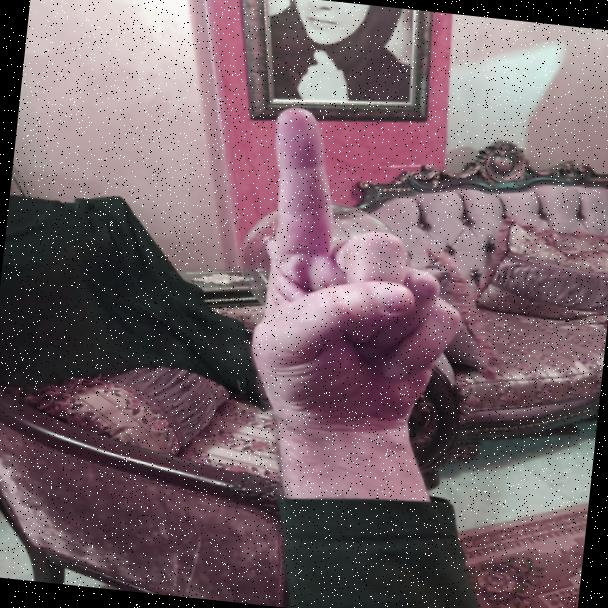one: (226, 95, 490, 451)
